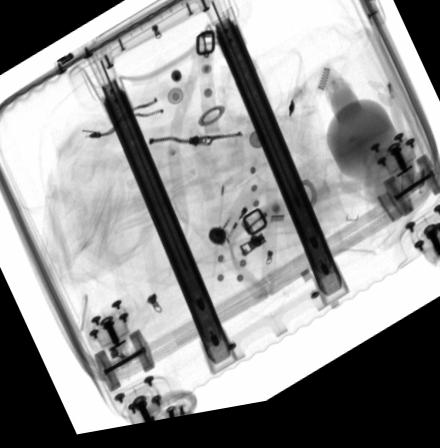Lighter: (213, 182, 267, 261)
